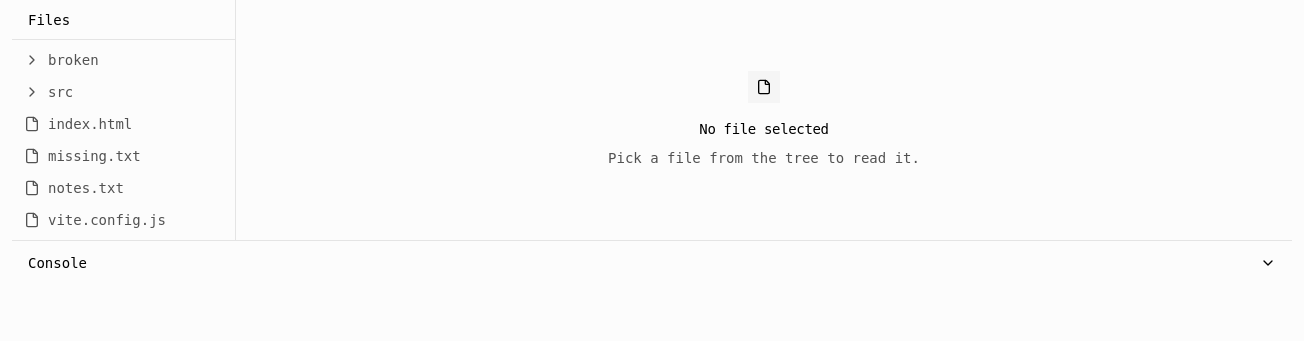
Test: reports folder and file errors in place
Click the button "broken" at (118, 60), box [12,44,225,76]
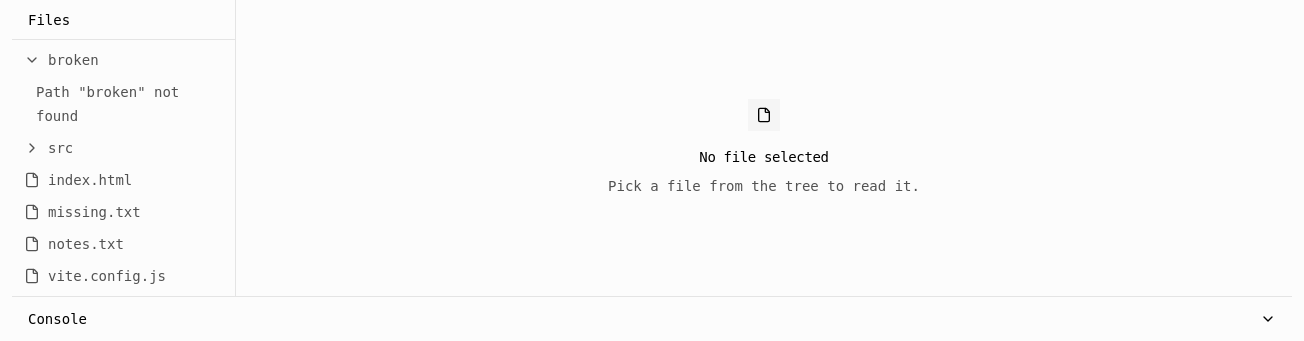
Expected: the message "Path \"broken\" not found" reads "Path \"broken\" not found", [36,84,179,124]
Click the button "missing.txt" at (118, 212), box [12,196,225,228]
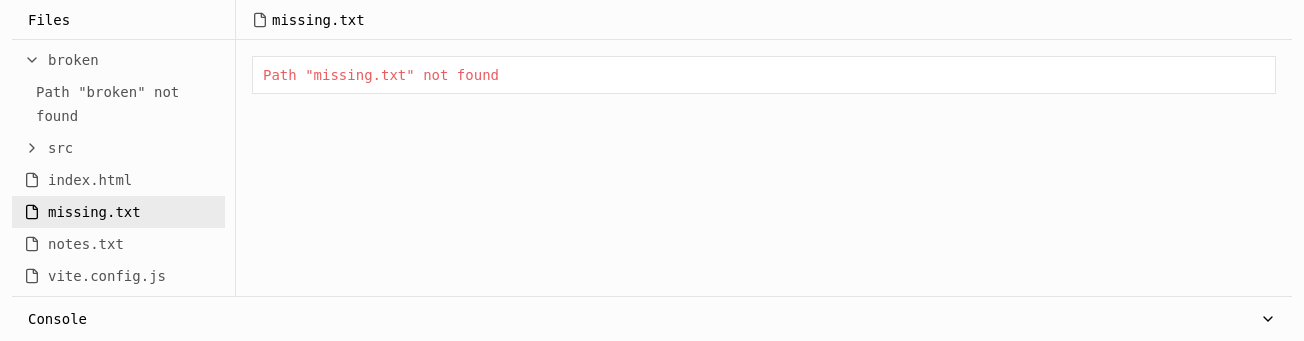
Expected: the message "Path \"missing.txt\" not found" reads "Path \"missing.txt\" not found", [263,67,499,83]
